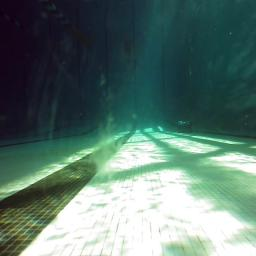Full: (124, 44, 132, 50)
front: (174, 120, 194, 136)
